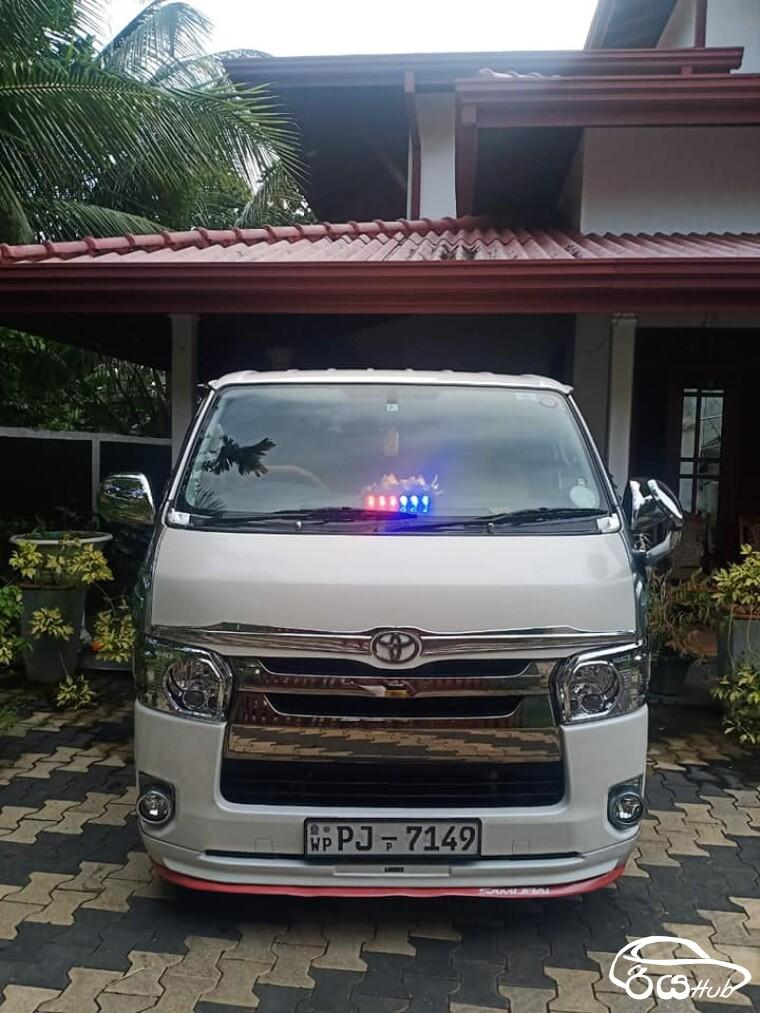van: (97, 368, 682, 899)
